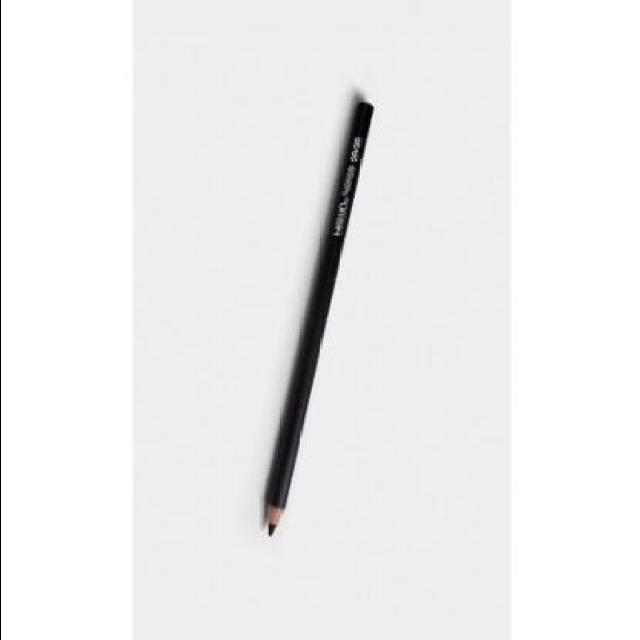pencil: (253, 488, 295, 542)
